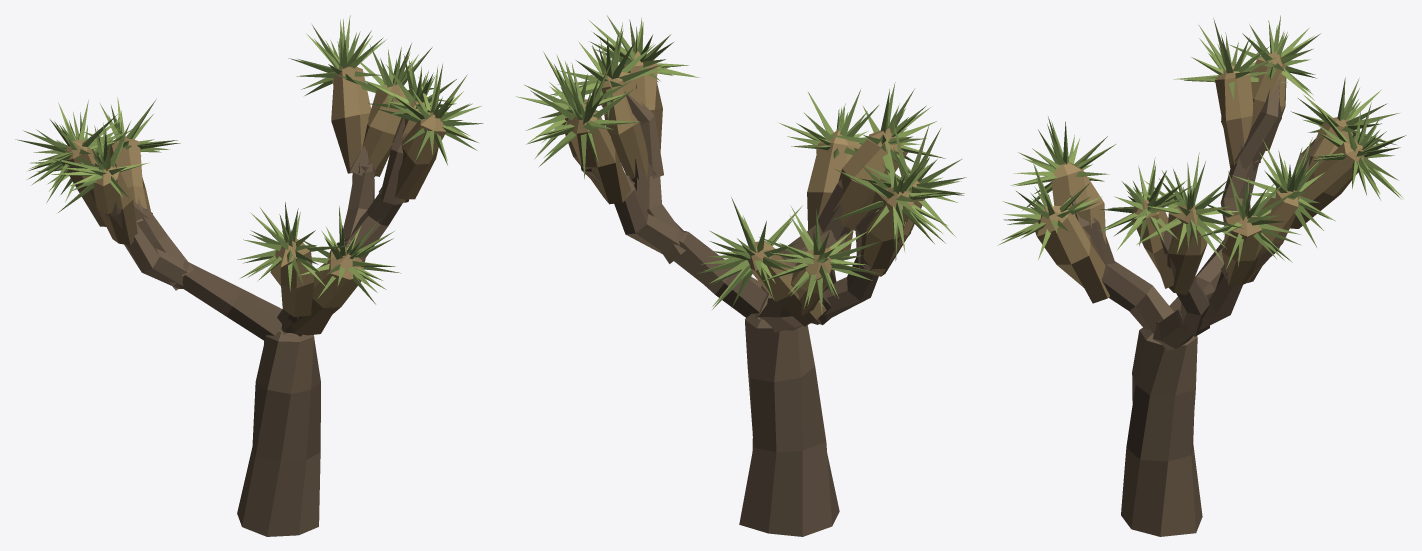
The model's file is zenscape-hero-joshua.glb.
3 views of the same model, side by side, from view 1: azimuth 30°, elevation 25°; view 2: azimuth 150°, elevation 25°; view 3: azimuth 270°, elevation 25° (orthographic). The views are drawn at different scales.
Parts seen in each view (by area): view 1: Bark, Thatch, Blades; view 2: Bark, Blades, Thatch; view 3: Bark, Blades, Thatch.
Boxes of the visible parts, x1,y1,x2,y2 form: Bark: (106, 118, 407, 536); Thatch: (62, 65, 446, 335); Blades: (15, 15, 483, 304); Bark: (580, 83, 911, 536); Blades: (515, 15, 966, 314); Thatch: (559, 51, 924, 326); Bark: (1070, 78, 1323, 536); Blades: (997, 15, 1406, 269); Thatch: (1035, 51, 1367, 303).
Bounding box in the file's own units: 3.51 × 3.6 × 3.07.
